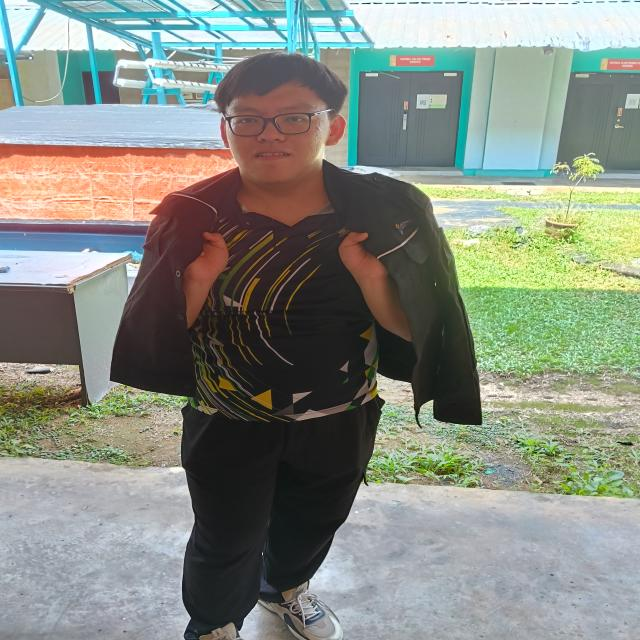person_without_labcoat: (112, 52, 481, 640)
